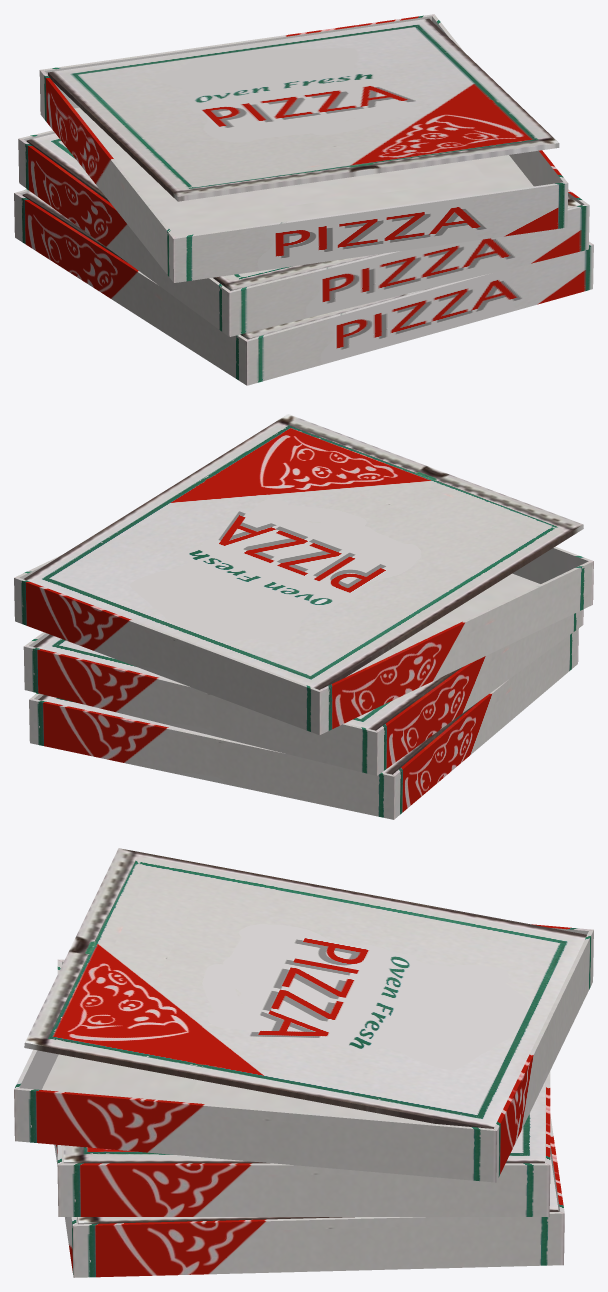
The model's file is Pizzas.FBX.
3 renders of one model, top to bottom at view 1: azimuth 30°, elevation 25°; view 2: azimuth 150°, elevation 25°; view 3: azimuth 270°, elevation 25°, orthographic. The views are drawn at different scales.
Visible parts, largest first — view 1: pizza box 2, pizza 3, pizza 1; view 2: pizza box 2, pizza 3, pizza 1; view 3: pizza box 2, pizza 1, pizza 3.
Boxes of the visible parts, x1,y1,x2,y2 form: pizza box 2: (39,14,568,282); pizza 3: (14,189,593,385); pizza 1: (18,130,589,336); pizza box 2: (14,414,593,735); pizza 3: (29,628,578,819); pizza 1: (23,609,583,775); pizza box 2: (14,848,593,1182); pizza 1: (57,959,550,1216); pizza 3: (54,1115,564,1277).
Size of the model in its own units: 892 by 900 by 349.
1 material, 1 textured.
